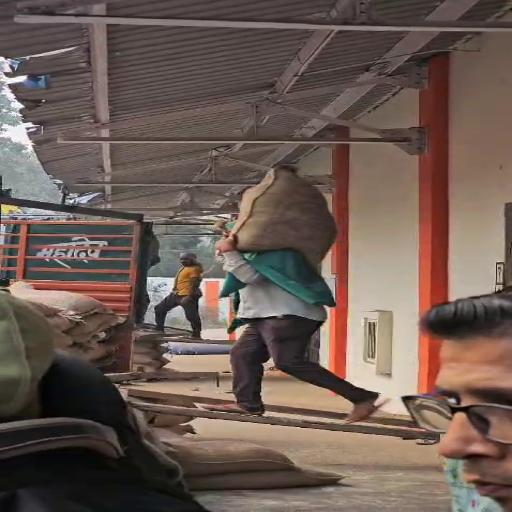bag: (226, 159, 340, 269)
